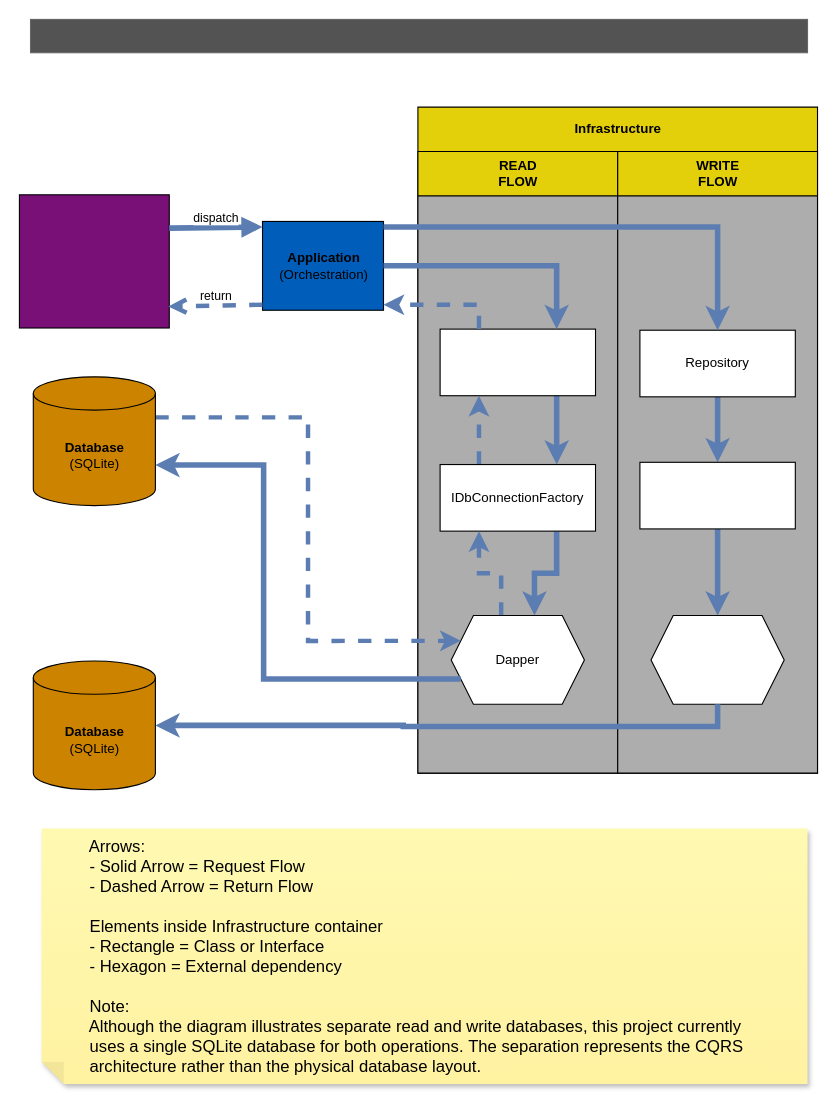
The diagram is 837 pixels wide and 1111 high, and some of its shapes have lost their labels. The centre of each missing label's shape, as x and y in pixels:
"CQRS Infrastructure Overview" belongs at point (418, 35).
"Entity Framework Core" belongs at point (717, 659).
"Presentation (CLI | API | Desktop)" belongs at point (93, 261).
"Query Handler" belongs at point (517, 362).
"WhoAmIDbContext" belongs at point (717, 495).
